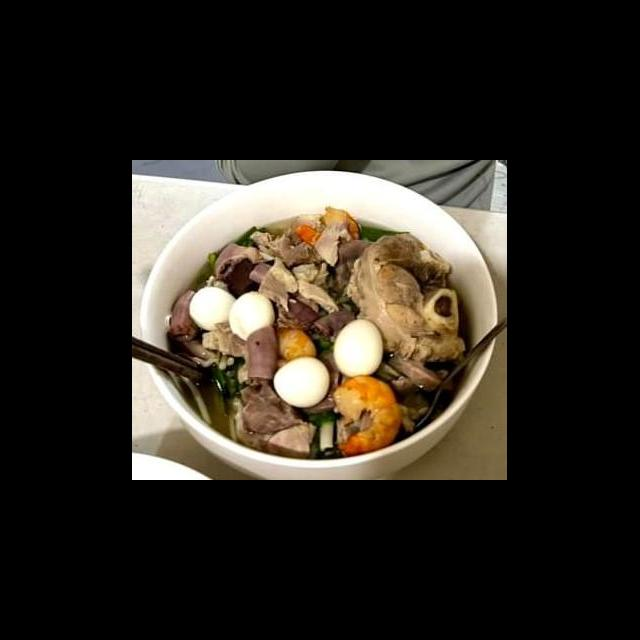thit heo: (344, 228, 470, 365)
tom: (329, 373, 406, 458), (292, 204, 364, 254)
trung: (332, 316, 388, 380), (272, 354, 334, 410), (188, 282, 242, 334), (228, 288, 278, 344)
